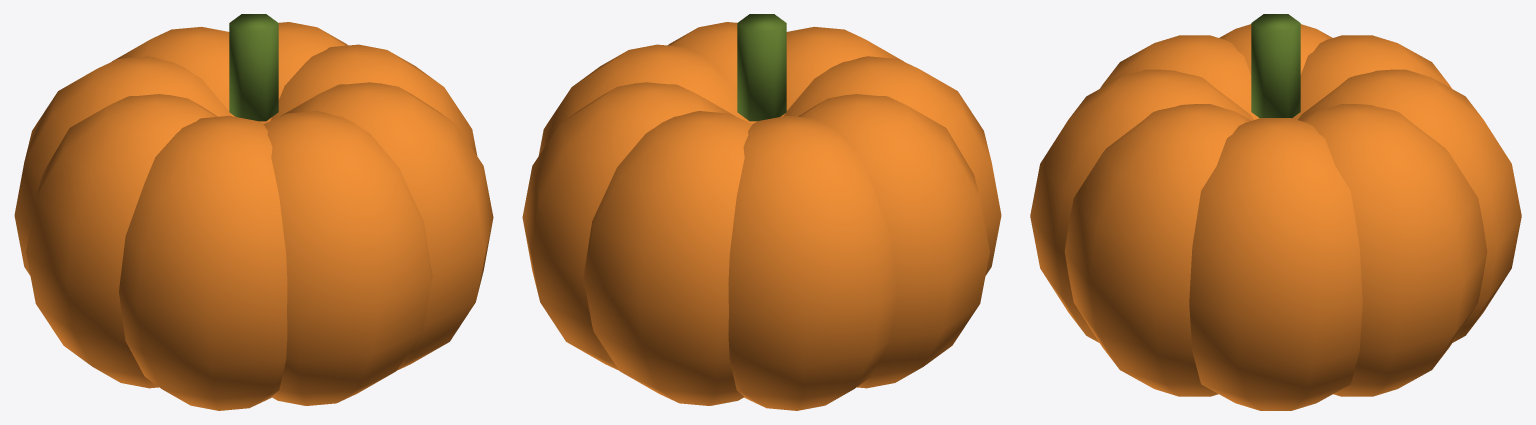
The model's file is pumpkin.glb.
The picture shows the model from 3 angles, left to right: view 1: azimuth 30°, elevation 25°; view 2: azimuth 150°, elevation 25°; view 3: azimuth 270°, elevation 25°; orthographic projection.
Visible parts, largest first — view 1: pumpkin; view 2: pumpkin; view 3: pumpkin.
Part boxes in pixels (left/top/right/bottom): pumpkin: left=14, top=14, right=493, bottom=410; pumpkin: left=522, top=14, right=1001, bottom=410; pumpkin: left=1030, top=14, right=1521, bottom=410.
Bounding box in the file's own units: 0.5843 × 0.444 × 0.6.
